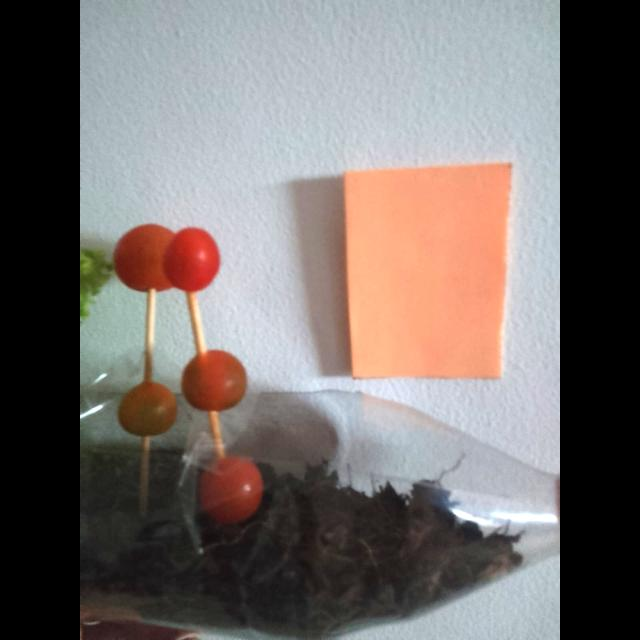card: (344, 164, 511, 378)
fruit_maturation: (199, 456, 263, 524), (182, 350, 246, 411), (118, 381, 177, 437)
fully_grown: (114, 224, 220, 292)
